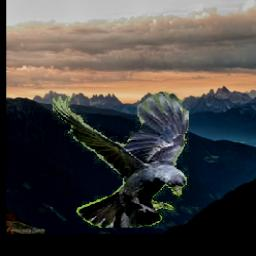Crow: (51, 92, 190, 229)
